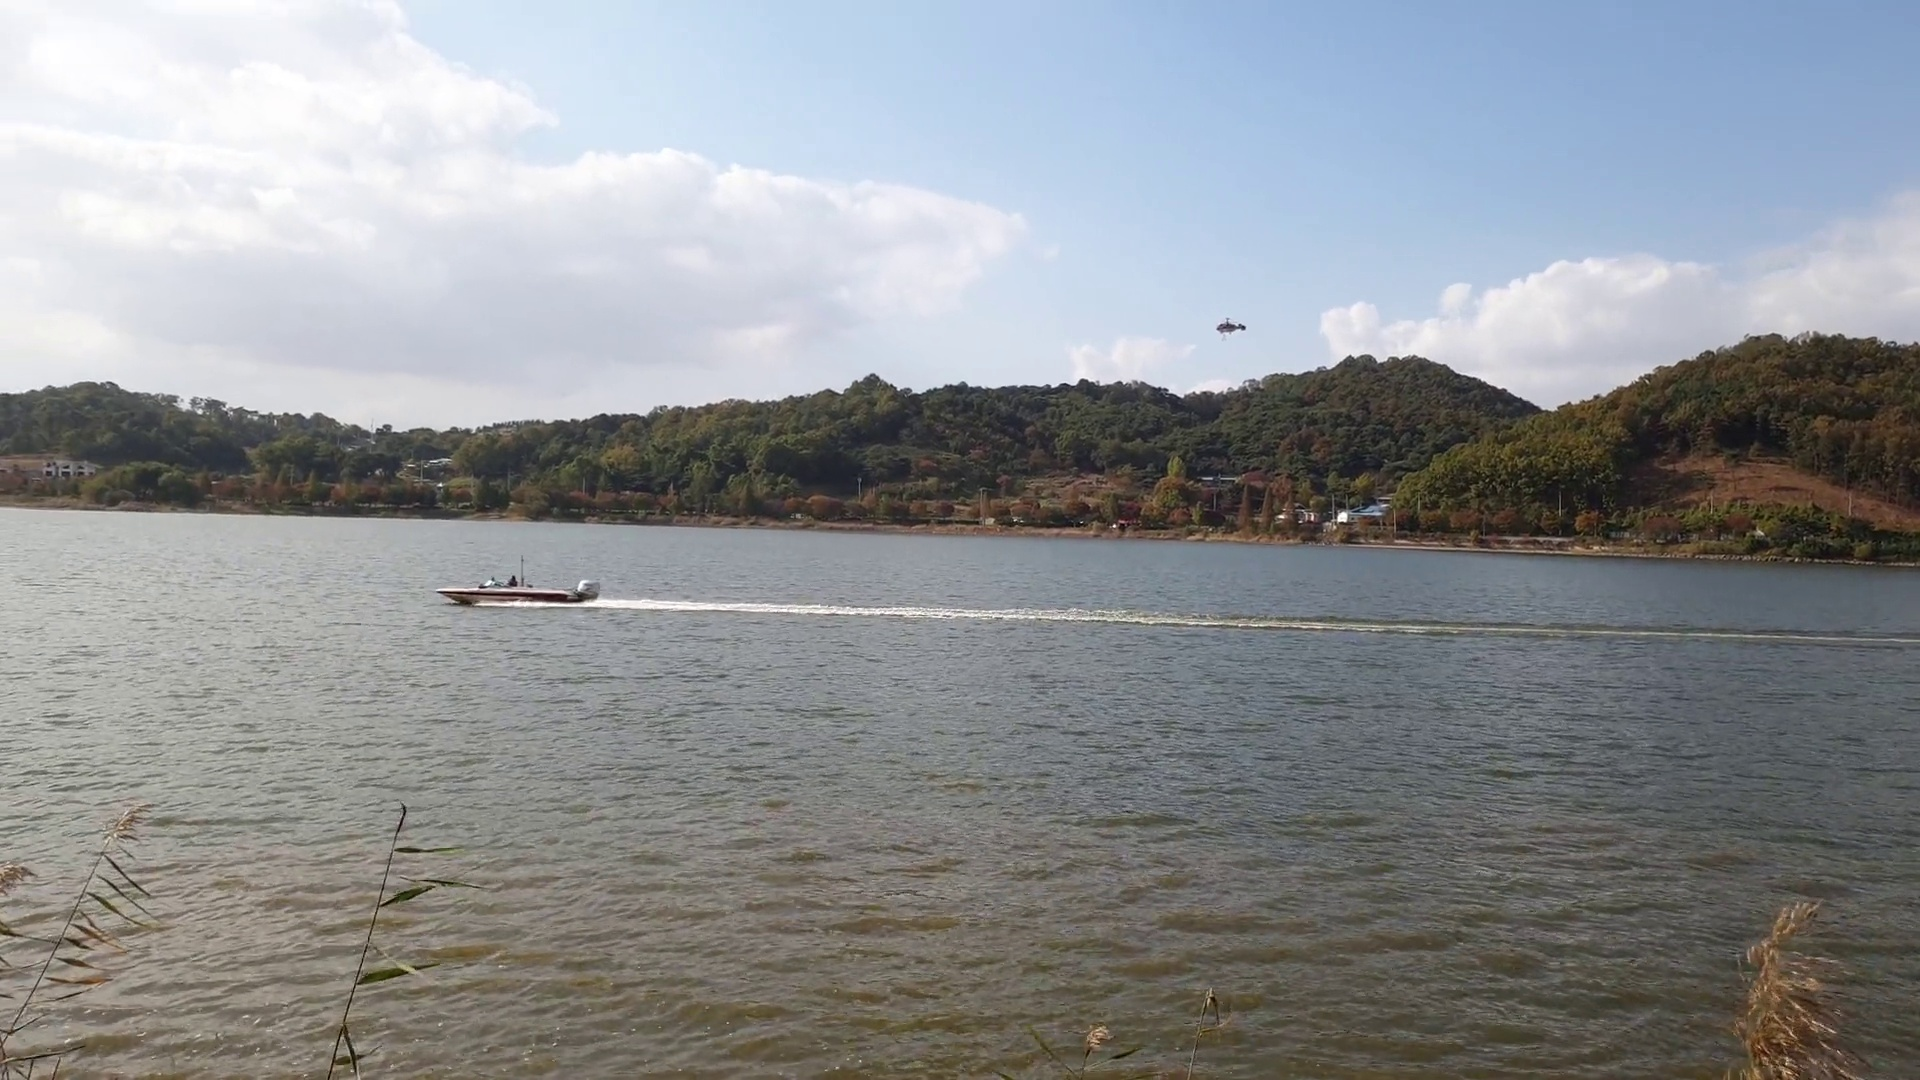heli: (1215, 315, 1245, 334)
